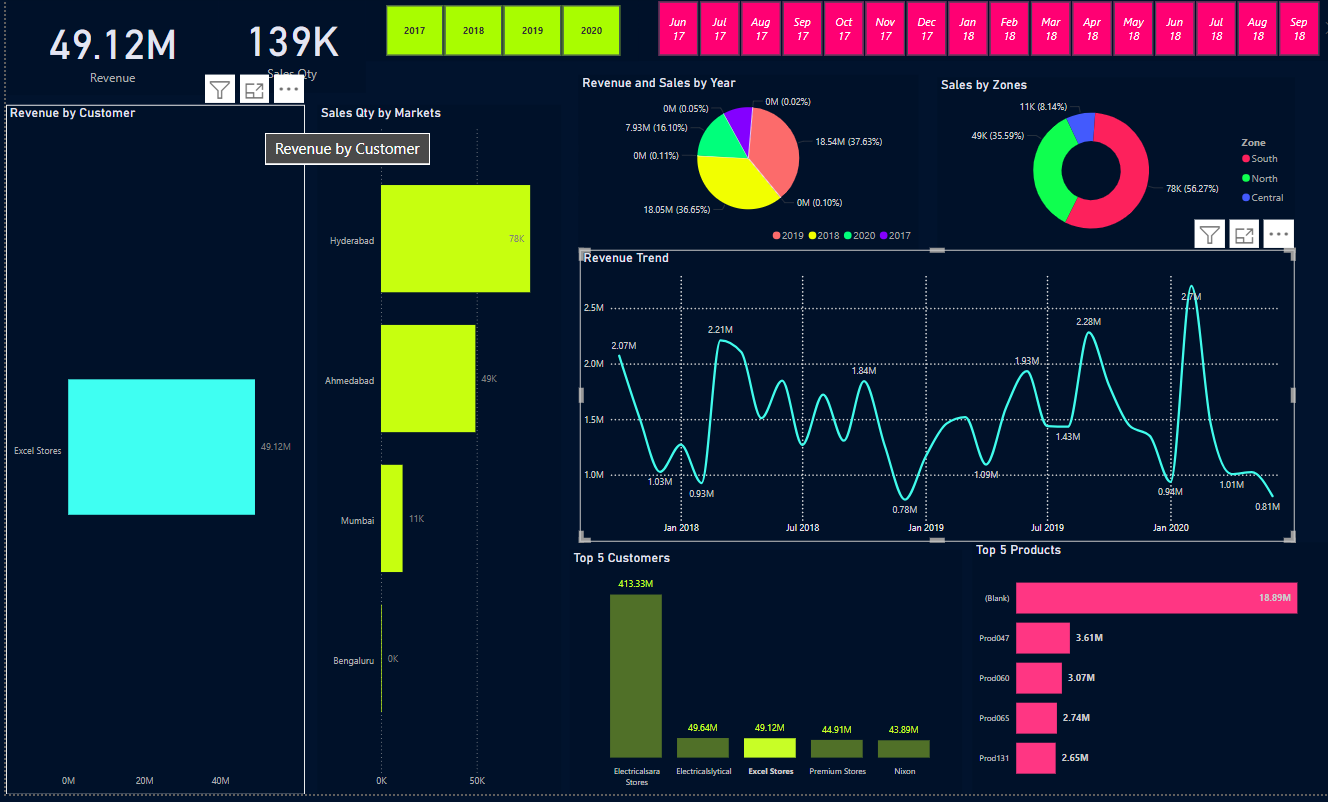

The page's visual inventory and layout, read from the dashboard file:
{"tool":"powerbi","page":{"name":"Dashboard","canvas":[1750,1050],"ordinal":0},"visuals":[{"type":"card","fields":{"Values":["BaseMeasures.Revenue"]},"box":[1.6,4.8,277.5,125.8],"z":0},{"type":"card","fields":{"Values":["BaseMeasures.Sales Qty"]},"box":[279.1,0,193.6,127.5],"z":1000},{"type":"barChart","title":"Revenue by Customer","fields":{"Category":["sales customers.custmer_name"],"Y":["BaseMeasures.Revenue"]},"box":[0,143,392.8,907.3],"z":2000},{"type":"barChart","title":"Sales Qty by Markets","fields":{"Category":["sales markets.markets_name"],"Y":["BaseMeasures.Sales Qty"]},"box":[409.3,143,320.5,907.3],"z":3000},{"type":"donutChart","title":"Sales by Zones","fields":{"Y":["BaseMeasures.Sales Qty"],"Category":["sales markets.zone"]},"box":[1224.6,106.8,470.1,226.8],"z":4000},{"type":"slicer","fields":{"Values":["sales date.year"]},"box":[473.4,4.9,358.3,80.5],"z":5000},{"type":"slicer","title":"Months","fields":{"Values":["sales date.cy_date"]},"box":[831.7,0,918.8,85.5],"z":6000},{"type":"columnChart","title":"Top 5 Customers","fields":{"Category":["sales customers.custmer_name"],"Y":["BaseMeasures.Revenue"]},"box":[741.3,728.2,516.1,320.5],"z":7000},{"type":"pieChart","title":"Revenue and Sales by Year","fields":{"Category":["sales date.year"],"Y":["BaseMeasures.Revenue","BaseMeasures.Sales Qty"]},"box":[752.8,103.6,447.1,230.1],"z":8000},{"type":"barChart","title":"Top 5 Products","fields":{"Y":["BaseMeasures.Revenue"],"Category":["sales products.product_code"]},"box":[1270.6,718.3,480,332],"z":9000},{"type":"lineChart","title":"Revenue Trend","fields":{"Category":["sales date.cy_date"],"Y":["BaseMeasures.Revenue"]},"box":[754.5,333.7,940.2,384.6],"z":10000}]}

Visuals, with their boxes in screenshot pixels (x1, y1, x2, y2), scaled from the page's 1750x1050 canvas onto the 1328x802 screenshot:
card - BaseMeasures.Revenue: {"x1": 1, "y1": 4, "x2": 212, "y2": 100}
card - BaseMeasures.Sales Qty: {"x1": 212, "y1": 0, "x2": 359, "y2": 97}
"Revenue by Customer" barChart: {"x1": 0, "y1": 109, "x2": 298, "y2": 801}
"Sales Qty by Markets" barChart: {"x1": 311, "y1": 109, "x2": 554, "y2": 801}
"Sales by Zones" donutChart: {"x1": 929, "y1": 82, "x2": 1286, "y2": 255}
slicer - sales date.year: {"x1": 359, "y1": 4, "x2": 631, "y2": 65}
"Months" slicer: {"x1": 631, "y1": 0, "x2": 1327, "y2": 65}
"Top 5 Customers" columnChart: {"x1": 563, "y1": 556, "x2": 954, "y2": 801}
"Revenue and Sales by Year" pieChart: {"x1": 571, "y1": 79, "x2": 911, "y2": 255}
"Top 5 Products" barChart: {"x1": 964, "y1": 549, "x2": 1327, "y2": 801}
"Revenue Trend" lineChart: {"x1": 573, "y1": 255, "x2": 1286, "y2": 549}
